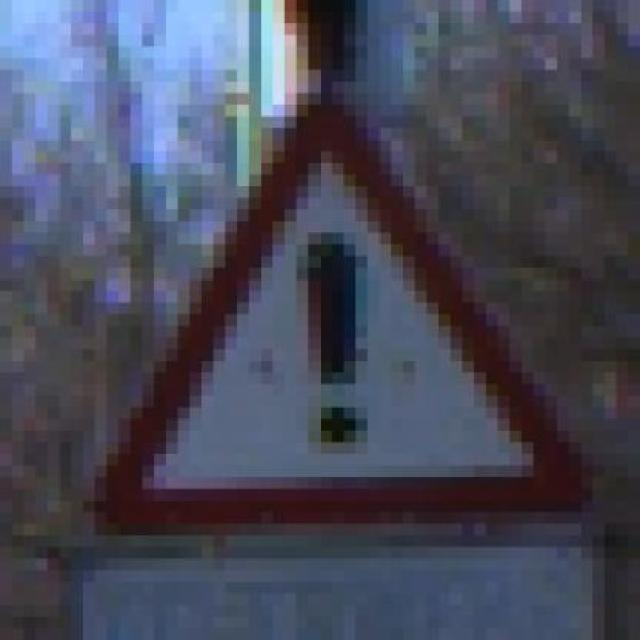Attention Please-: (71, 92, 617, 536)
